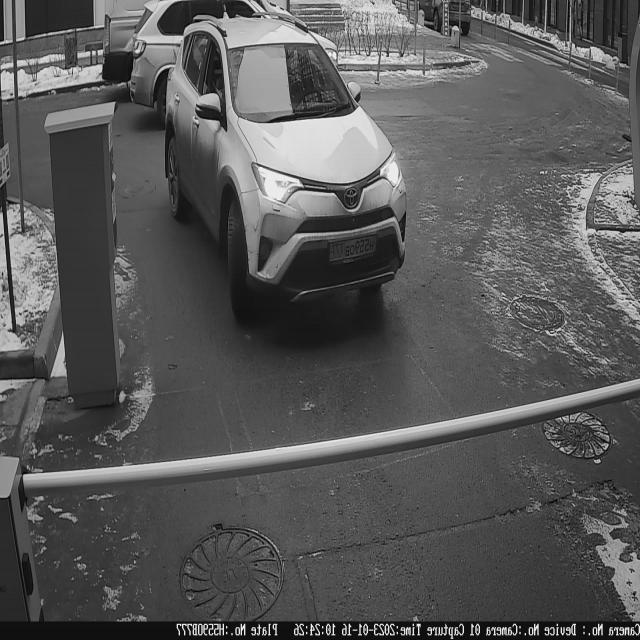car-plate-numbers: (328, 228, 379, 268)
